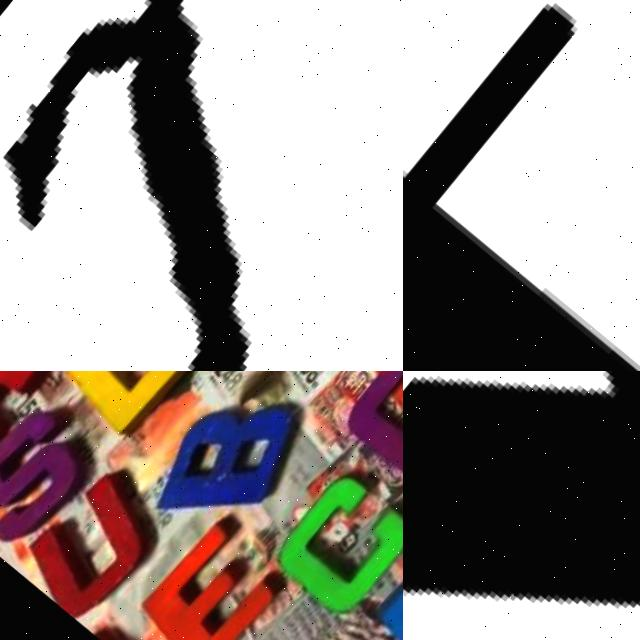7: (0, 0, 403, 371)
A: (0, 371, 50, 458)
B: (128, 371, 318, 553)
C: (257, 463, 403, 622)
E: (403, 0, 640, 371), (112, 513, 286, 640)
G: (332, 371, 403, 481)
J: (296, 576, 403, 640)
L: (54, 371, 196, 435)
S: (0, 393, 99, 549)
U: (0, 460, 168, 628)
Y: (403, 371, 640, 640)
